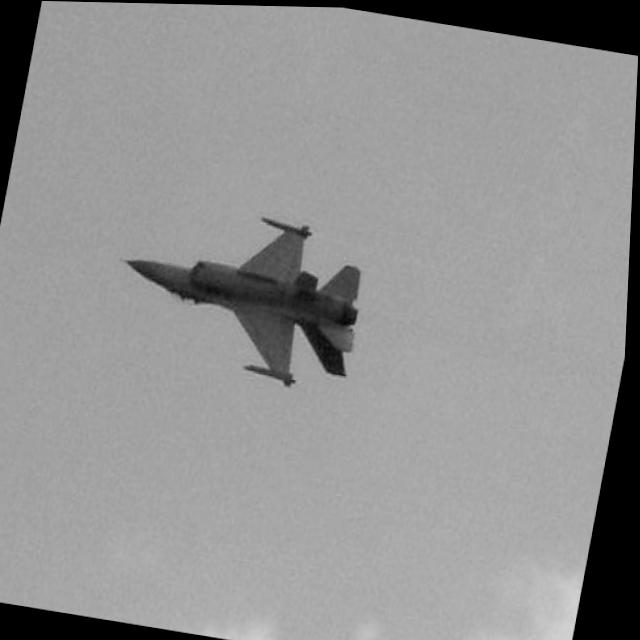aeroplane: (103, 192, 377, 397)
